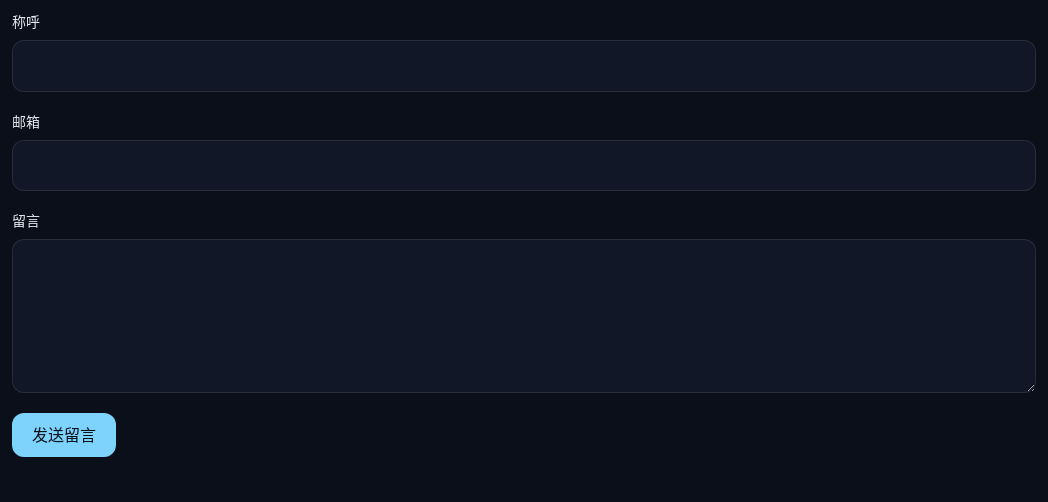
it: ContactForm › 失焦时只校验当前字段
Click the field labelled "称呼": [524, 66] box x1=12 y1=40 x2=1036 y2=92
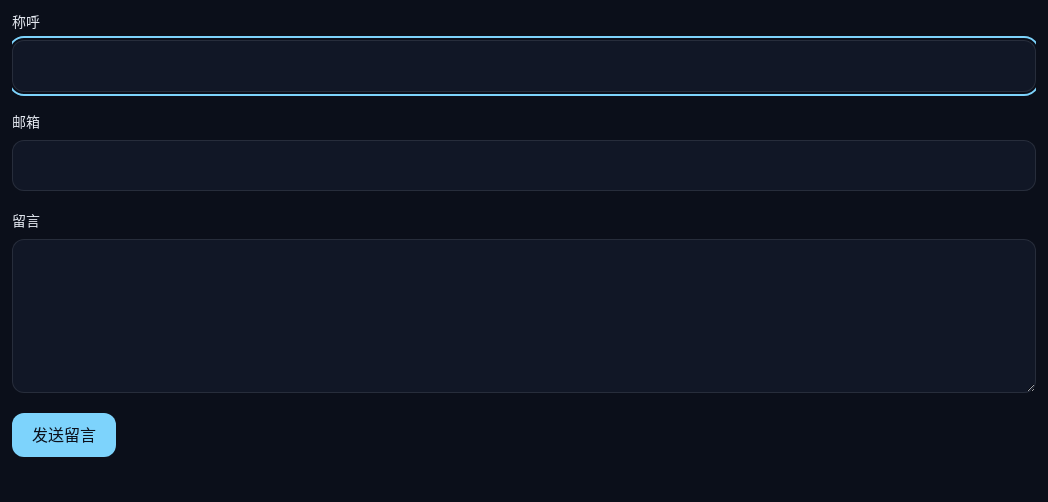
Press Tab
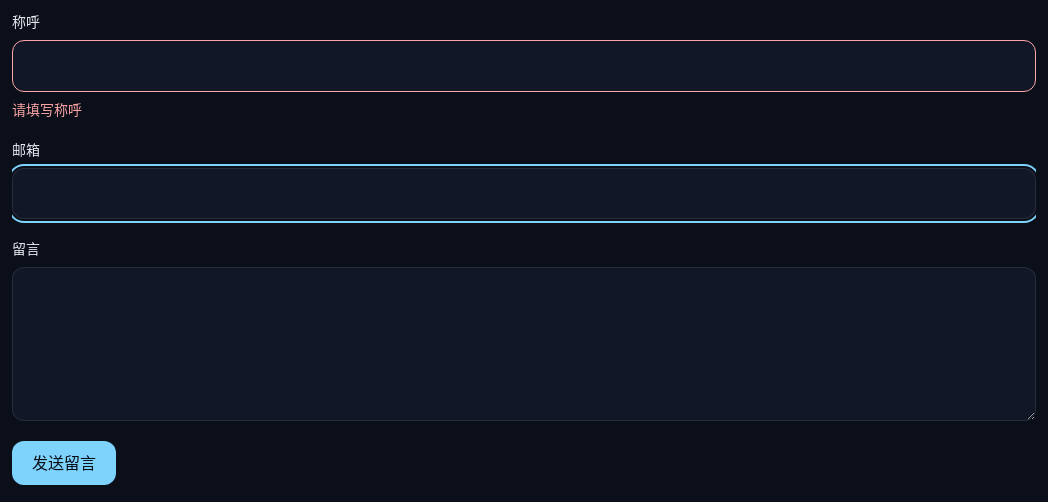
Result: the text "请填写称呼" is shown at x1=12 y1=100 x2=82 y2=118
